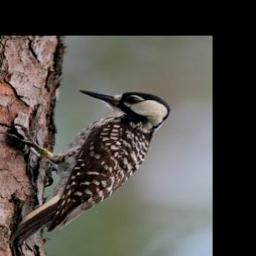Woodpecker: (0, 89, 171, 247)
